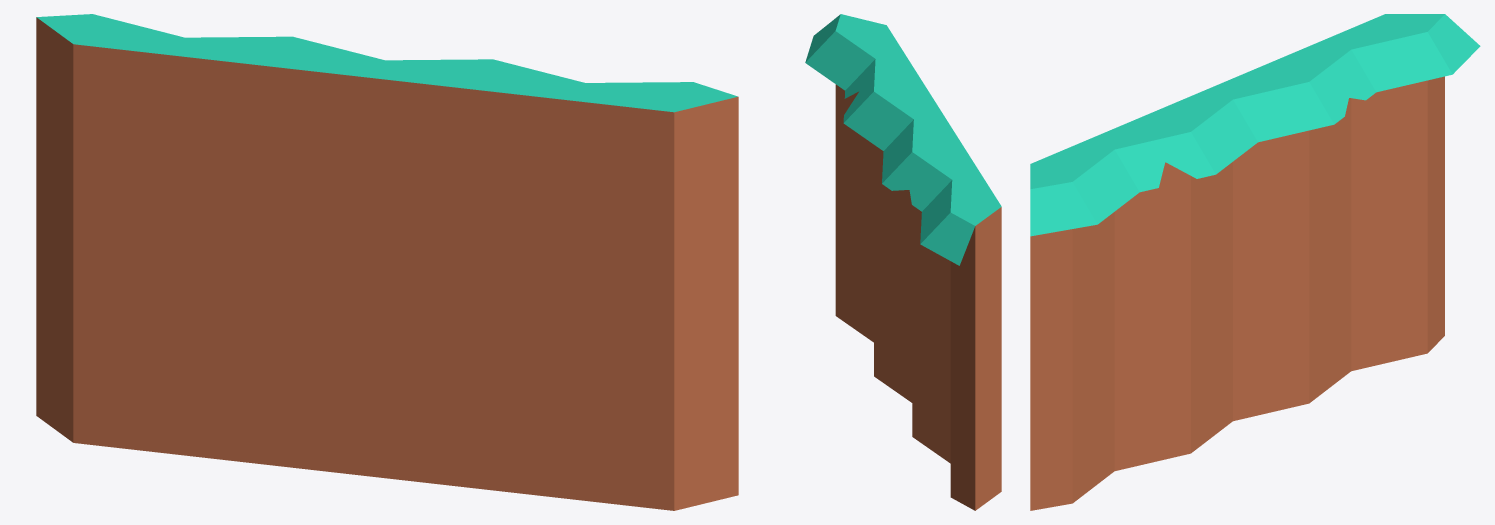
File: cliff_topDiagonal_rock.glb
The picture shows the model from 3 angles, left to right: view 1: azimuth 30°, elevation 25°; view 2: azimuth 150°, elevation 25°; view 3: azimuth 270°, elevation 25°; orthographic projection. The views are drawn at different scales.
Visible parts, largest first — view 1: cliff_topDiagonal_rock; view 2: cliff_topDiagonal_rock; view 3: cliff_topDiagonal_rock.
Part boxes in pixels (x1,y1,x2,y2): cliff_topDiagonal_rock: (36, 14, 738, 510); cliff_topDiagonal_rock: (805, 14, 1001, 510); cliff_topDiagonal_rock: (1030, 14, 1480, 510).
Bounding box in the file's own units: 1.27 × 1 × 1.27.
